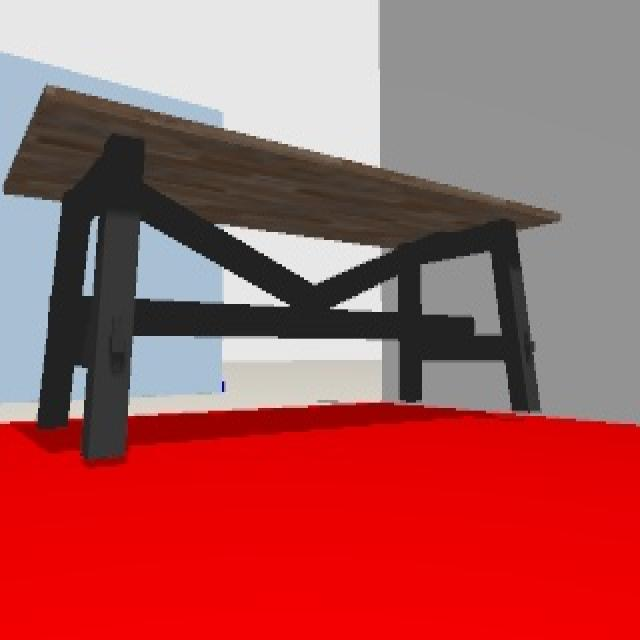dining: (3, 86, 548, 457)
